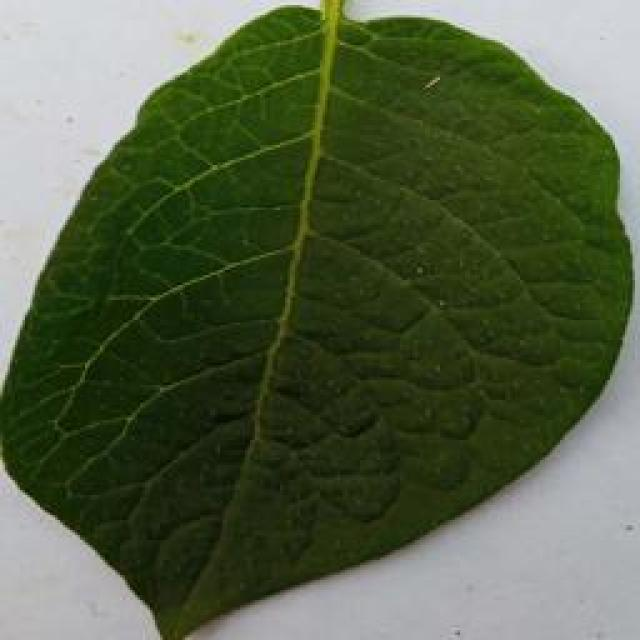Potato_Healthy: (6, 8, 622, 636)
